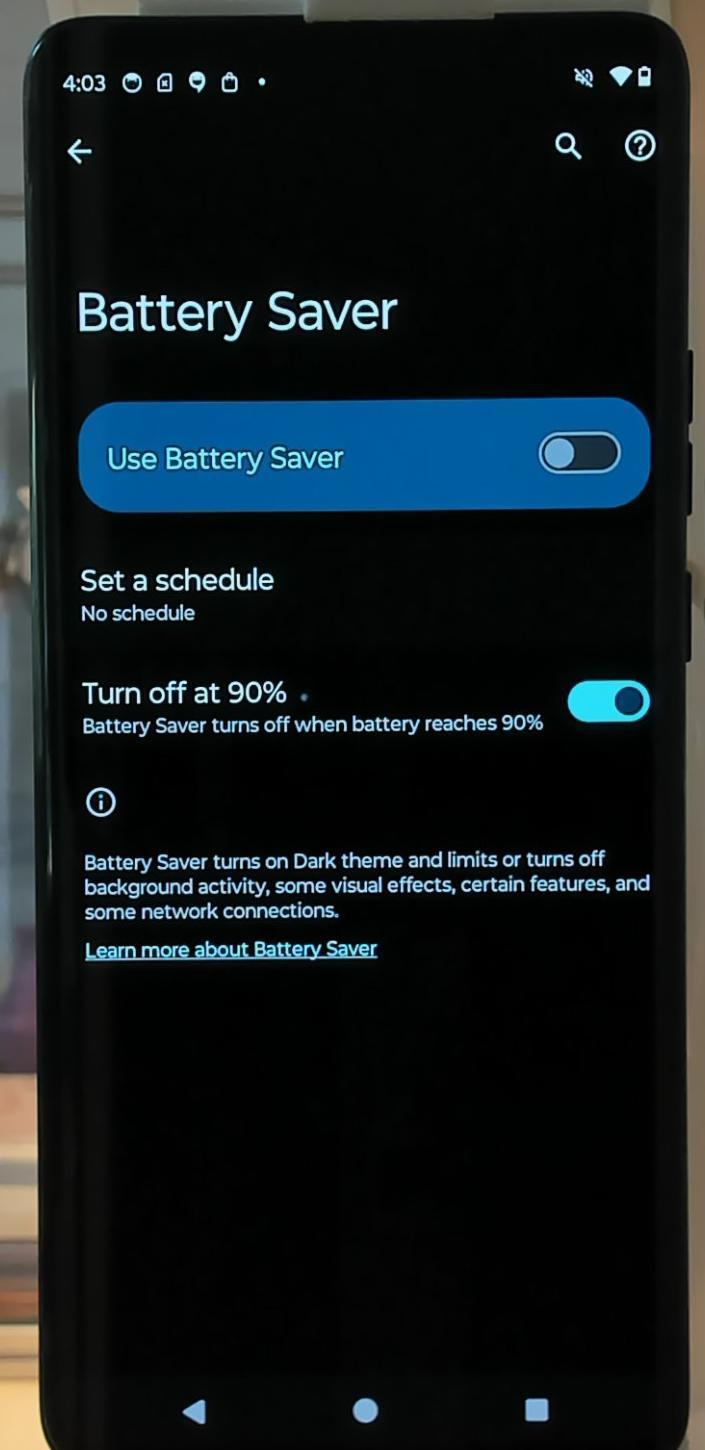Checkbox: (73, 663, 664, 747), (99, 423, 628, 486)
